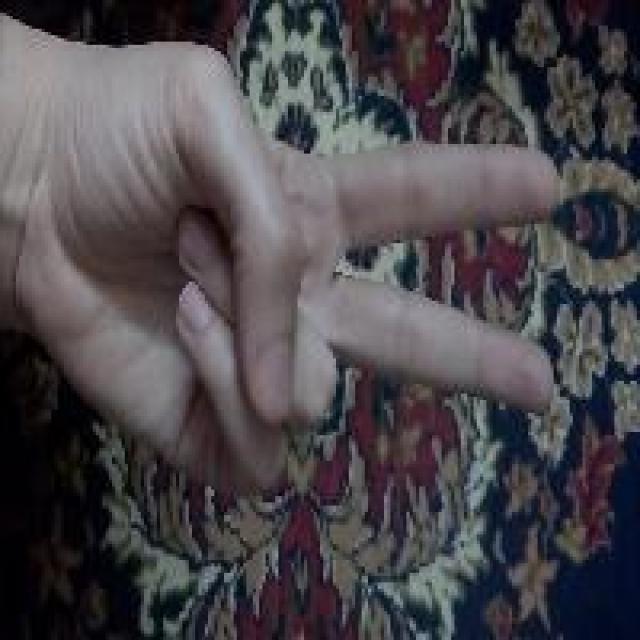V: (24, 80, 494, 618)
